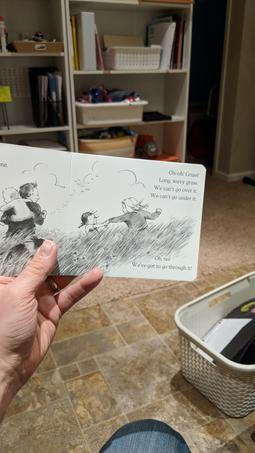text block: (143, 164, 204, 209), (128, 254, 197, 275)
